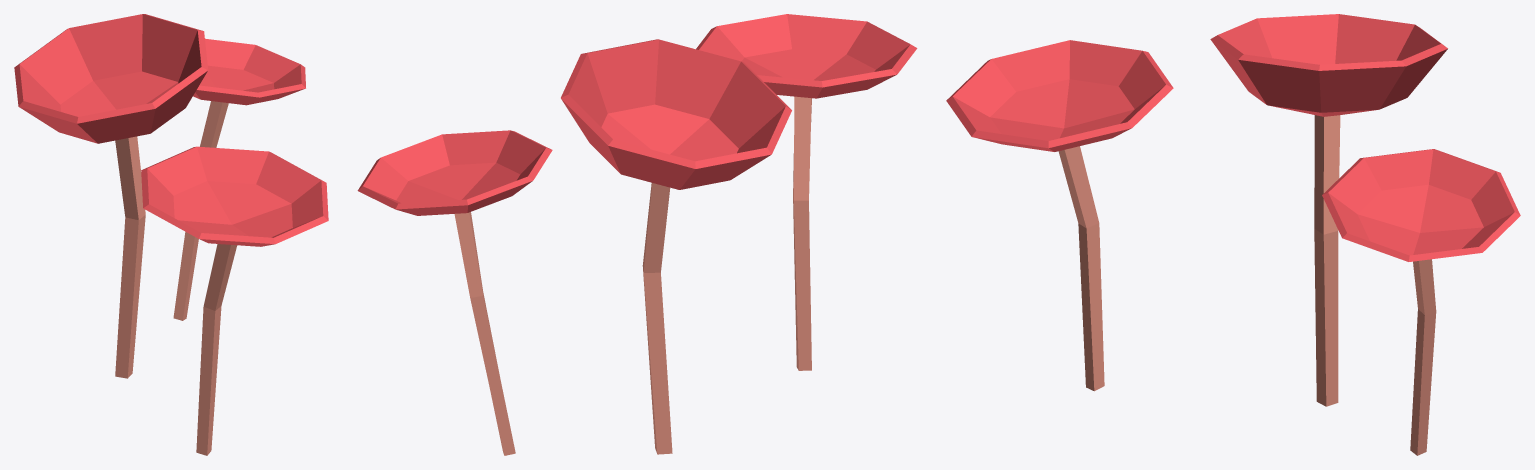
The model's file is Mushroom_d_05.fbx.
3 views of the same model, side by side, from view 1: azimuth 30°, elevation 25°; view 2: azimuth 150°, elevation 25°; view 3: azimuth 270°, elevation 25° (orthographic). The views are drawn at different scales.
Visible parts, largest first — view 1: Mushroom_d_05; view 2: Mushroom_d_05; view 3: Mushroom_d_05.
Boxes of the visible parts, bbox=[...] form: Mushroom_d_05: bbox=[14, 14, 328, 455]; Mushroom_d_05: bbox=[357, 14, 917, 455]; Mushroom_d_05: bbox=[946, 14, 1520, 455].
Bounding box in the file's own units: 0.3684 × 0.3665 × 0.5067.
